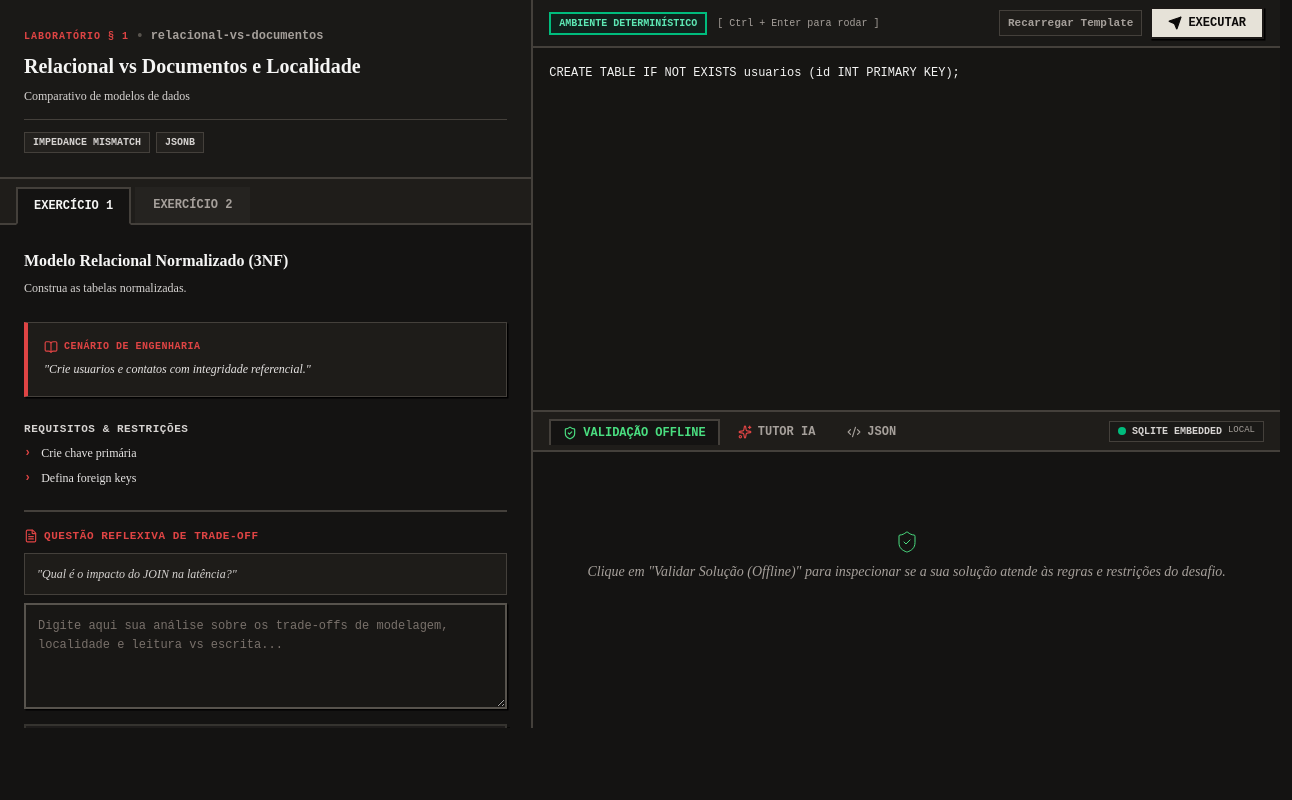
Test: LabWorkspace Component › deve alternar para a aba JSON e renderizar o payload estruturado
Click the button "JSON".
click(872, 431)  # box [833,418,910,444]
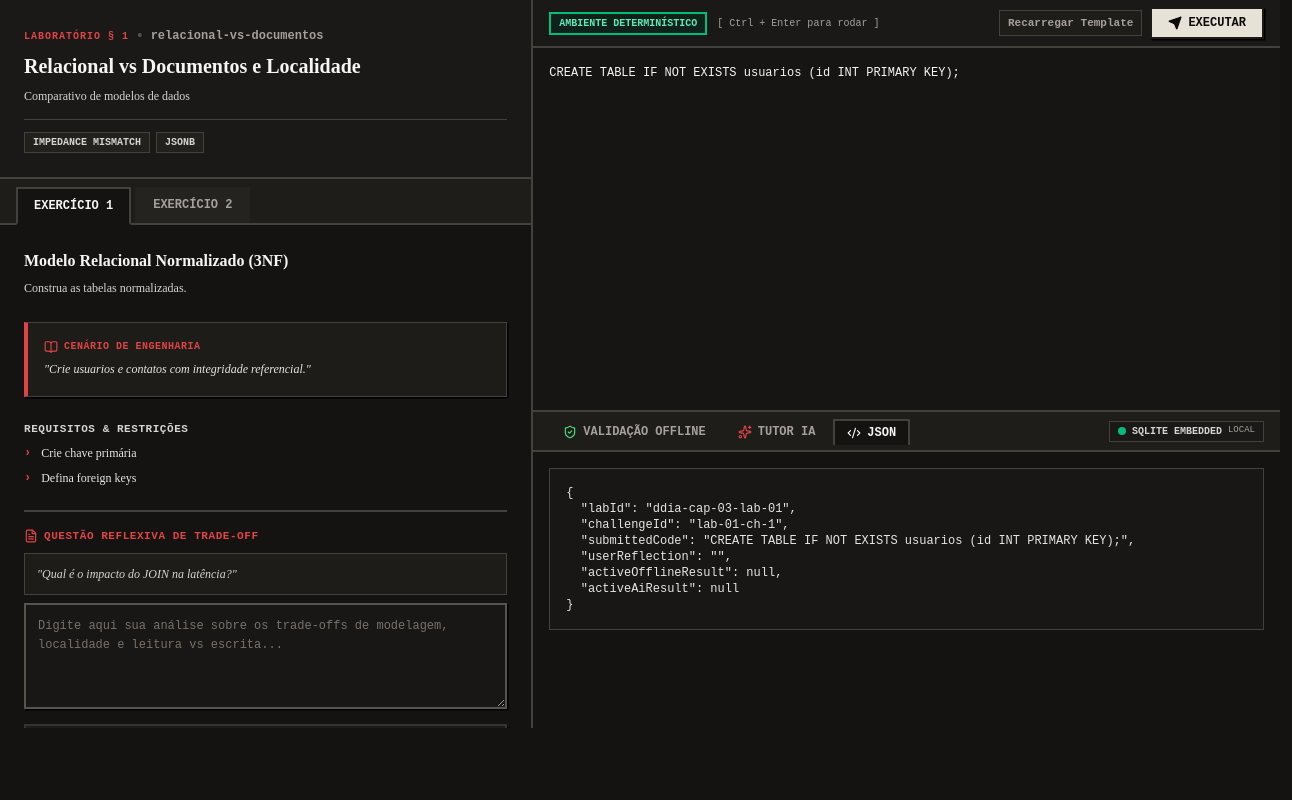
expect the text "\"labId\": \"ddia-cap-03-lab-01\"" is shown: met, box [566,486,1135,612]
